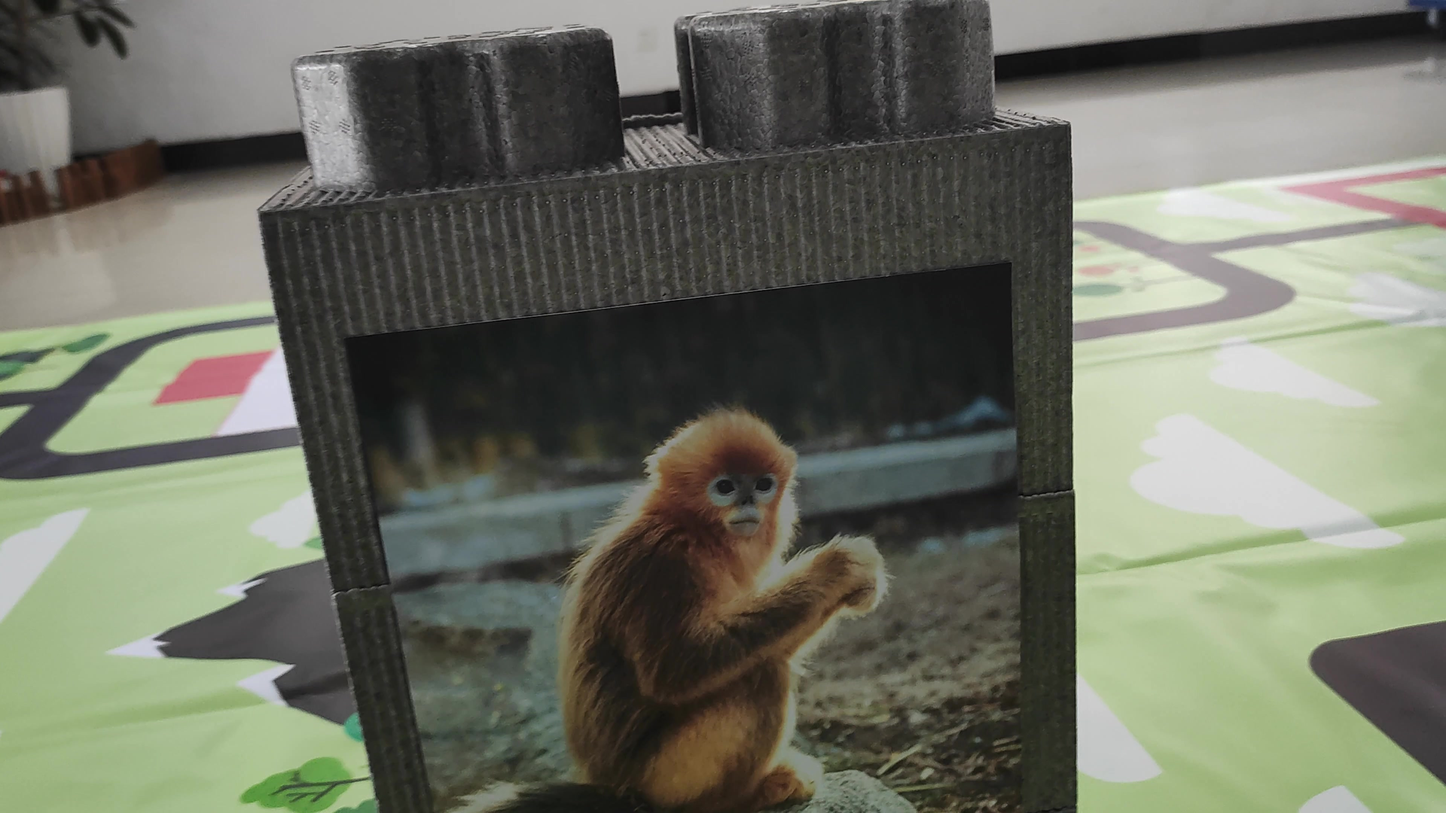monkey: (443, 371, 889, 813)
